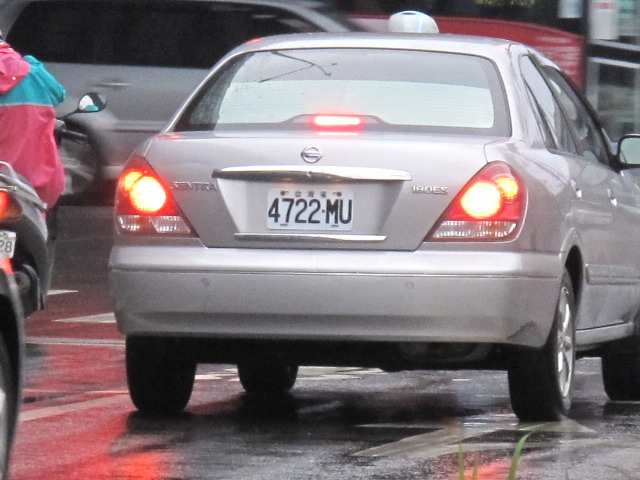plate: (265, 185, 358, 234)
